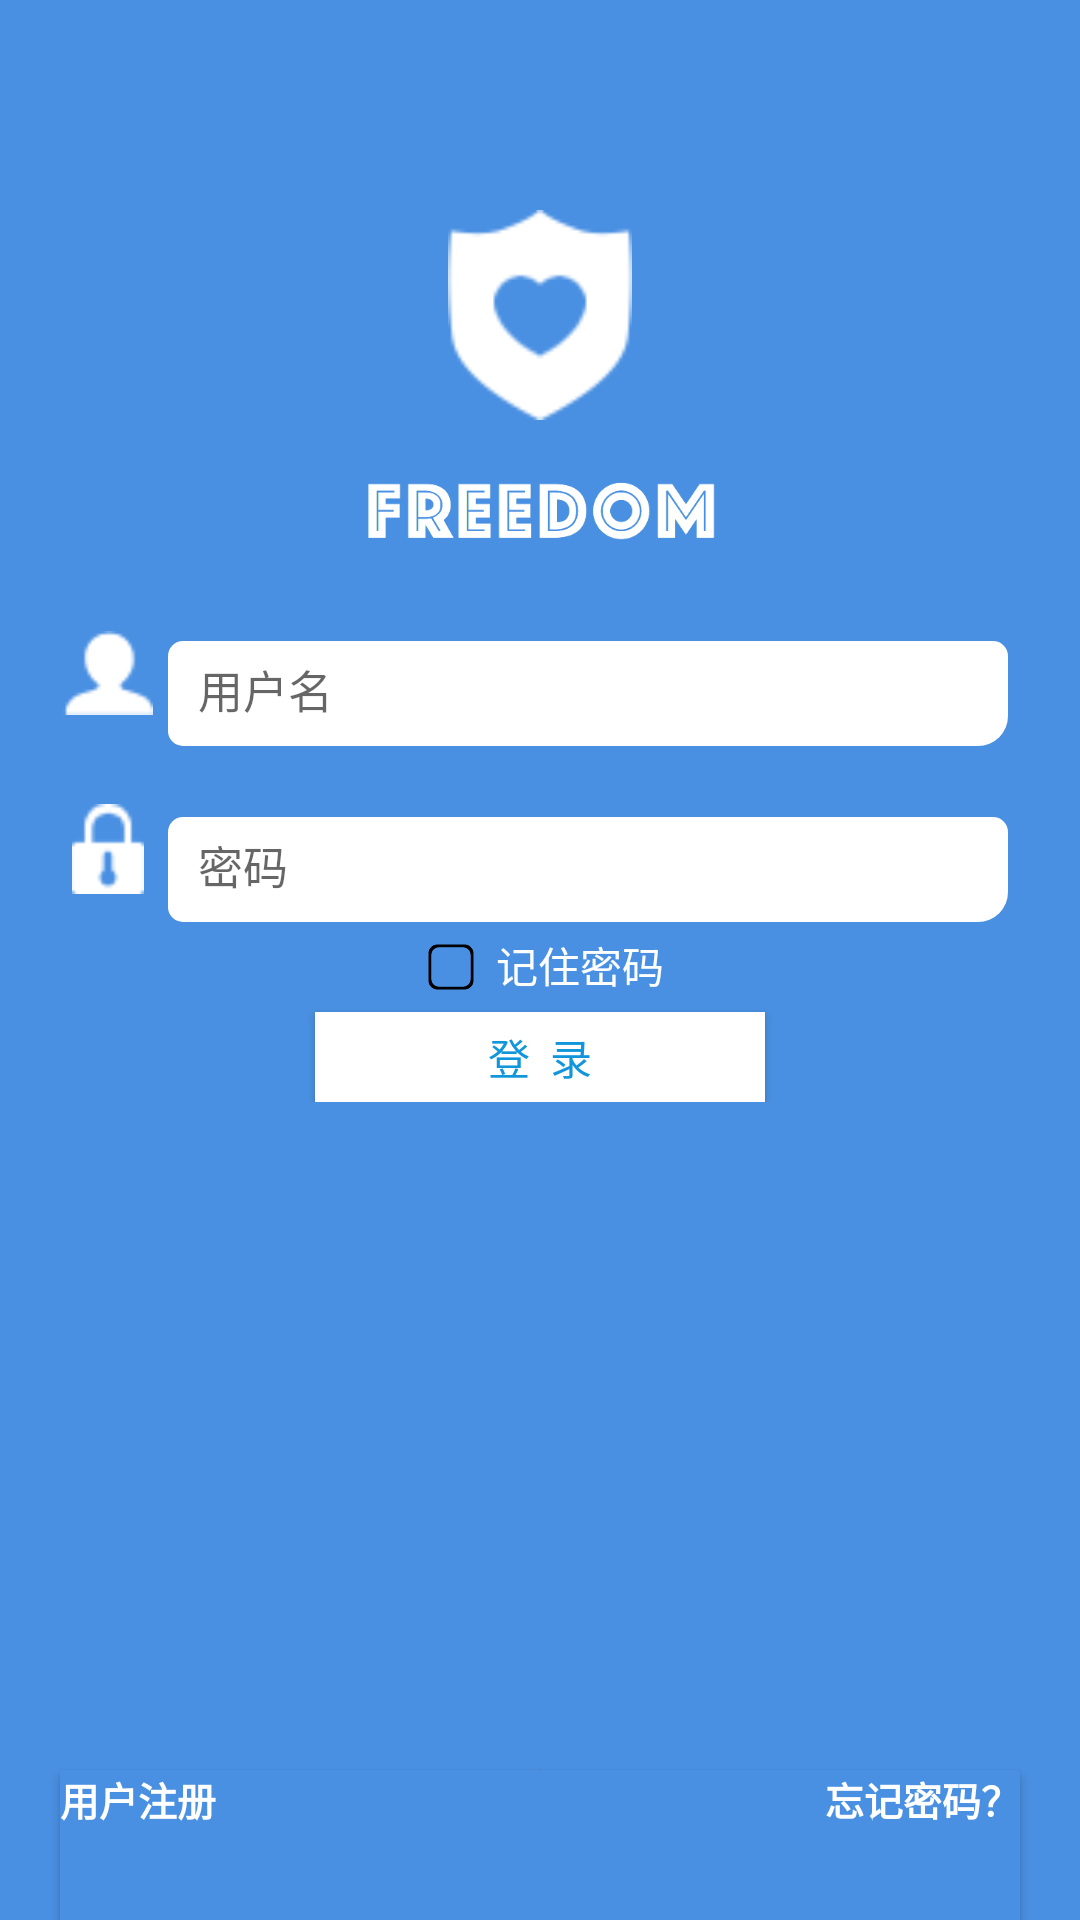

Icons on this 1080 × 1920 Android screen, each with the point to tap as (x,y):
account: (109,673)
heart: (540,315)
password: (108,849)
